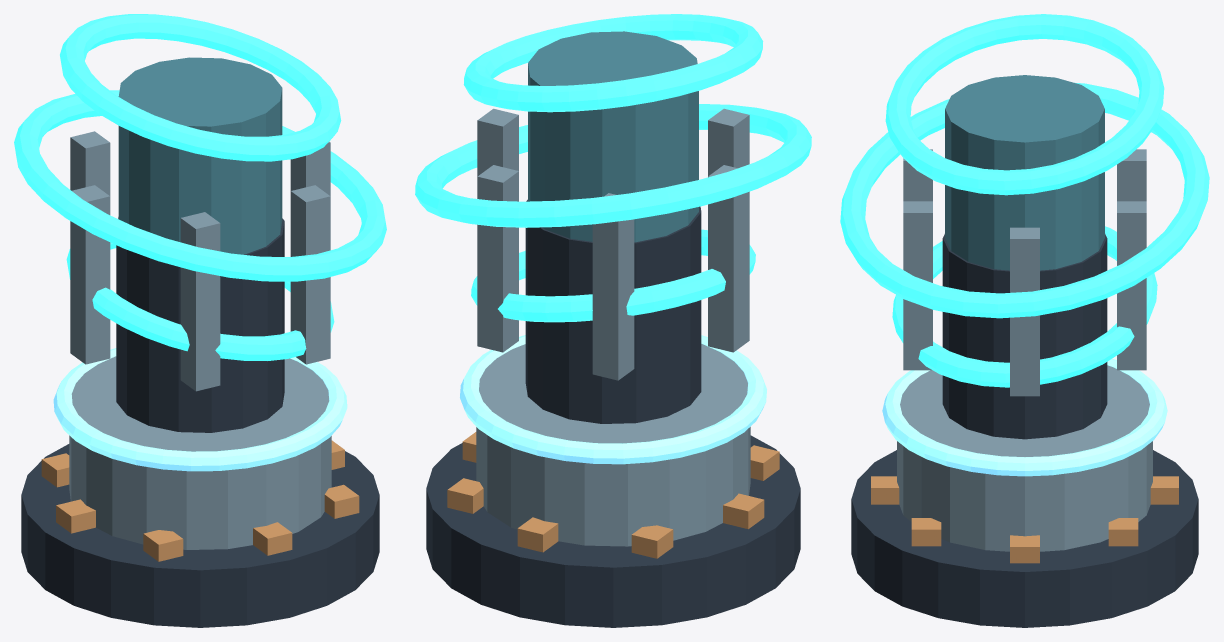
Rendered from drag_field.glb.
3 views of the same model, side by side, from view 1: azimuth 30°, elevation 25°; view 2: azimuth 150°, elevation 25°; view 3: azimuth 270°, elevation 25° (orthographic). The views are drawn at different scales.
Visible parts, largest first — view 1: Circular reinforced plinth, Titanium center, Anti-velocity central column, Rotating servo head, Magnetic containment orbit.002, Magnetic containment orbit.001, Charged bearing, Active gyro arm.004, Active gyro arm.005, Active gyro arm.003, Magnetic containment orbit, Active gyro arm.002 (+6 smaller); view 2: Circular reinforced plinth, Titanium center, Anti-velocity central column, Rotating servo head, Magnetic containment orbit.001, Magnetic containment orbit.002, Charged bearing, Active gyro arm.002, Active gyro arm.003, Active gyro arm.001, Magnetic containment orbit, Active gyro arm (+6 smaller); view 3: Circular reinforced plinth, Titanium center, Anti-velocity central column, Rotating servo head, Magnetic containment orbit.001, Magnetic containment orbit.002, Charged bearing, Magnetic containment orbit, Active gyro arm, Active gyro arm.005, Active gyro arm.001, Active gyro arm.002 (+6 smaller).
Part boxes in pixels (<box>): Circular reinforced plinth: <box>21,444,379,627</box>; Titanium center: <box>69,356,331,549</box>; Anti-velocity central column: <box>118,57,282,254</box>; Rotating servo head: <box>116,217,284,432</box>; Magnetic containment orbit.002: <box>60,14,341,161</box>; Magnetic containment orbit.001: <box>14,90,386,281</box>; Charged bearing: <box>53,348,347,471</box>; Active gyro arm.004: <box>180,212,220,391</box>; Active gyro arm.005: <box>290,185,330,364</box>; Active gyro arm.003: <box>70,185,110,364</box>; Magnetic containment orbit: <box>66,242,334,360</box>; Active gyro arm.002: <box>70,131,110,195</box>; Circular reinforced plinth: <box>426,435,800,627</box>; Titanium center: <box>476,344,750,546</box>; Anti-velocity central column: <box>528,31,698,242</box>; Rotating servo head: <box>525,199,701,423</box>; Magnetic containment orbit.001: <box>415,104,811,227</box>; Magnetic containment orbit.002: <box>463,14,763,112</box>; Charged bearing: <box>460,335,766,464</box>; Active gyro arm.002: <box>592,193,634,380</box>; Active gyro arm.003: <box>708,165,749,352</box>; Active gyro arm.001: <box>477,165,518,352</box>; Magnetic containment orbit: <box>471,229,755,322</box>; Active gyro arm: <box>477,108,518,176</box>; Circular reinforced plinth: <box>851,450,1198,627</box>; Titanium center: <box>897,365,1152,551</box>; Anti-velocity central column: <box>945,75,1104,270</box>; Rotating servo head: <box>942,234,1107,439</box>; Magnetic containment orbit.001: <box>840,82,1209,318</box>; Magnetic containment orbit.002: <box>885,14,1164,195</box>; Charged bearing: <box>882,358,1167,476</box>; Magnetic containment orbit: <box>892,226,1157,387</box>; Active gyro arm: <box>1010,227,1039,396</box>; Active gyro arm.005: <box>903,201,932,370</box>; Active gyro arm.001: <box>1117,201,1146,370</box>; Active gyro arm.002: <box>1117,149,1146,201</box>.
Size of the model in its own units: 1.59 by 2.36 by 1.62.
